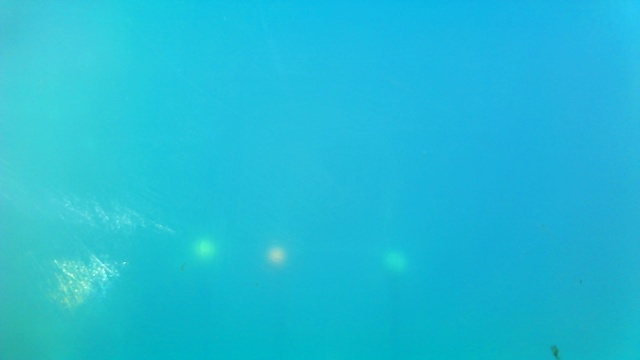buoy_red: (267, 246, 283, 263)
